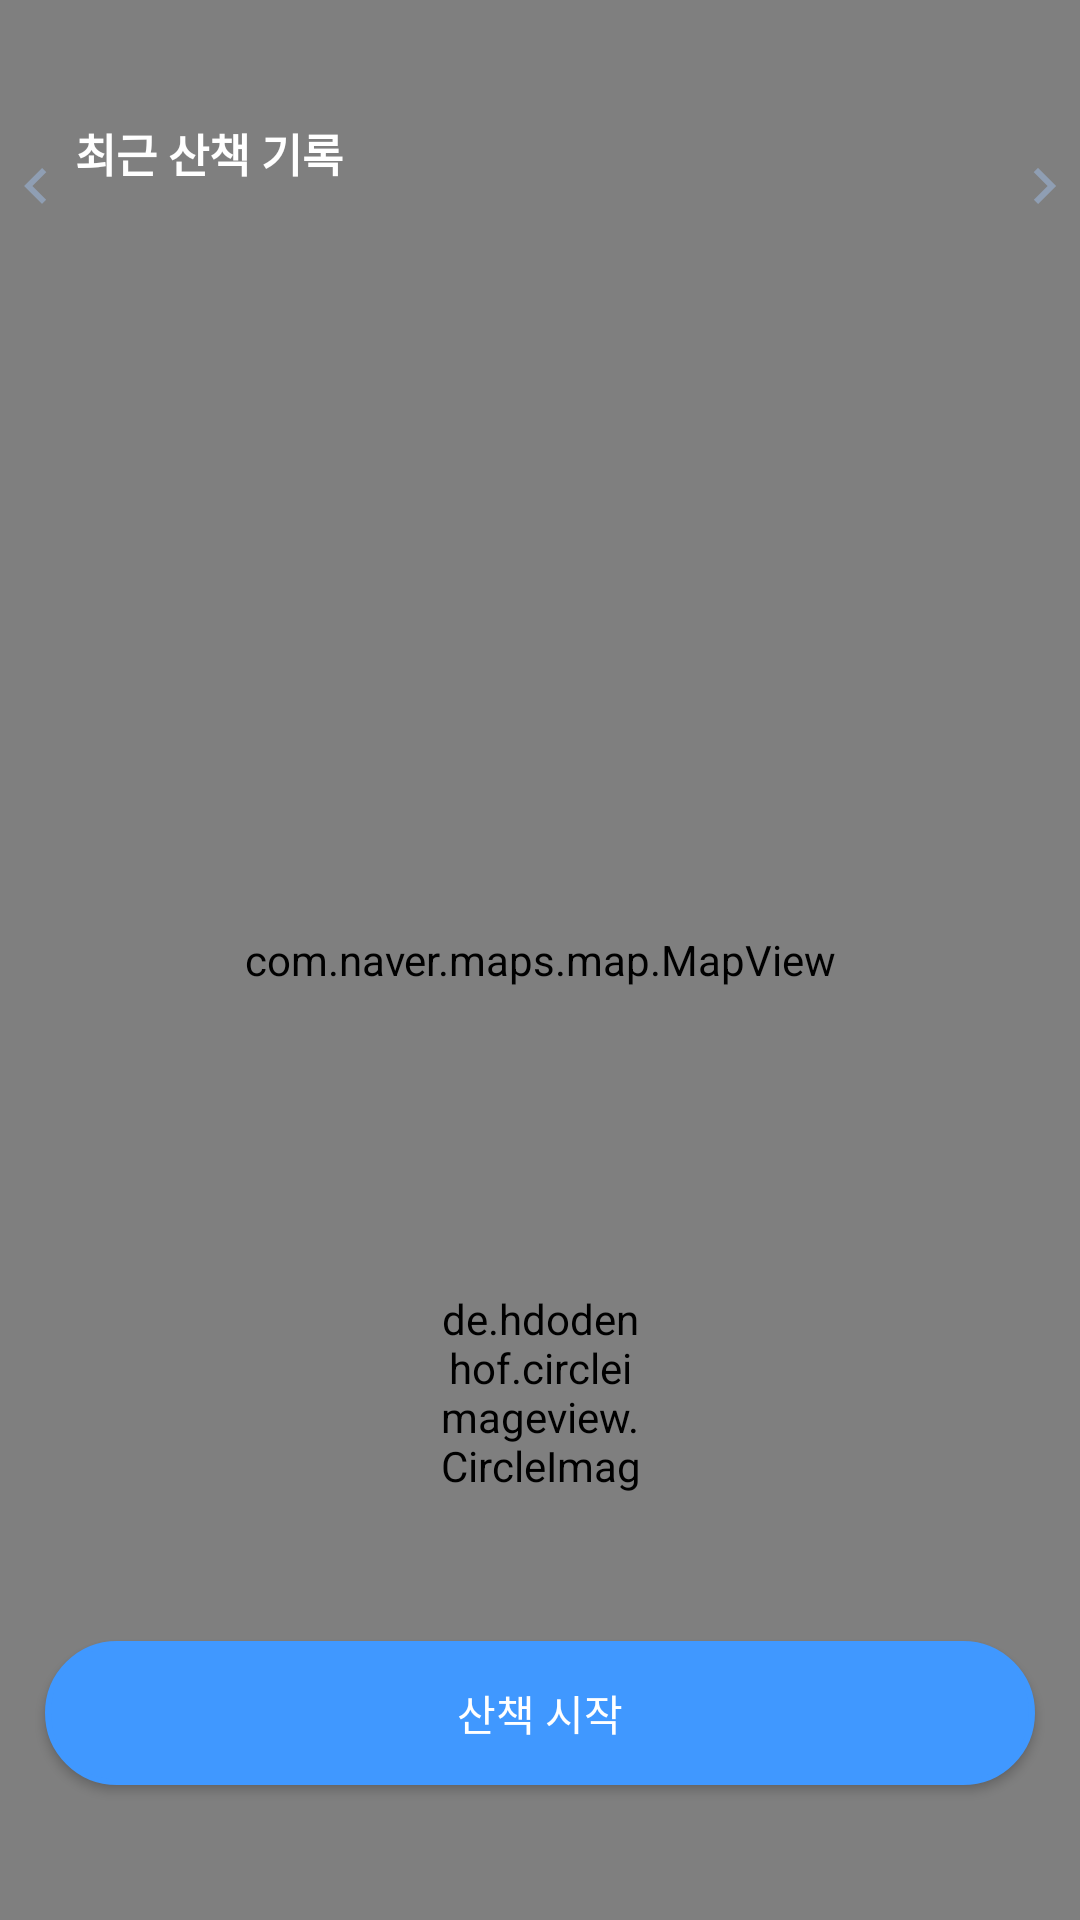

Locate icon controls on the screen. Image size 1080px x 1920px, boxes as (x1, y1, x2, y2).
keyboard arrow left: (25, 168, 46, 203)
keyboard arrow right: (1034, 168, 1056, 204)
